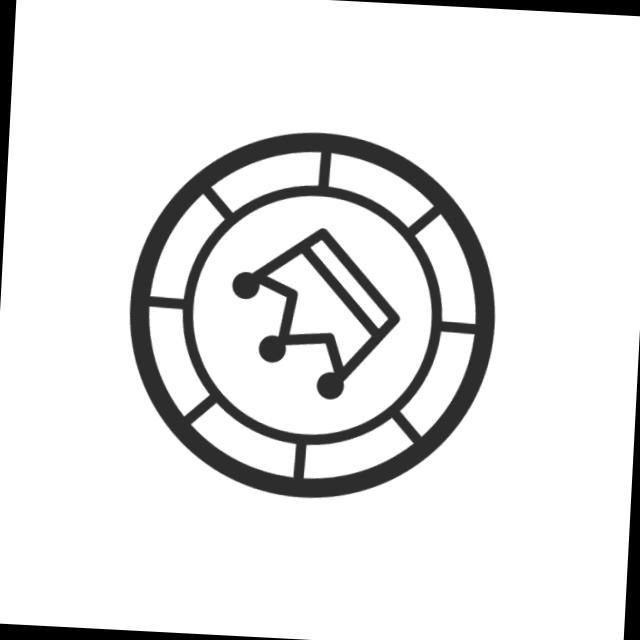coin: (113, 118, 513, 518)
